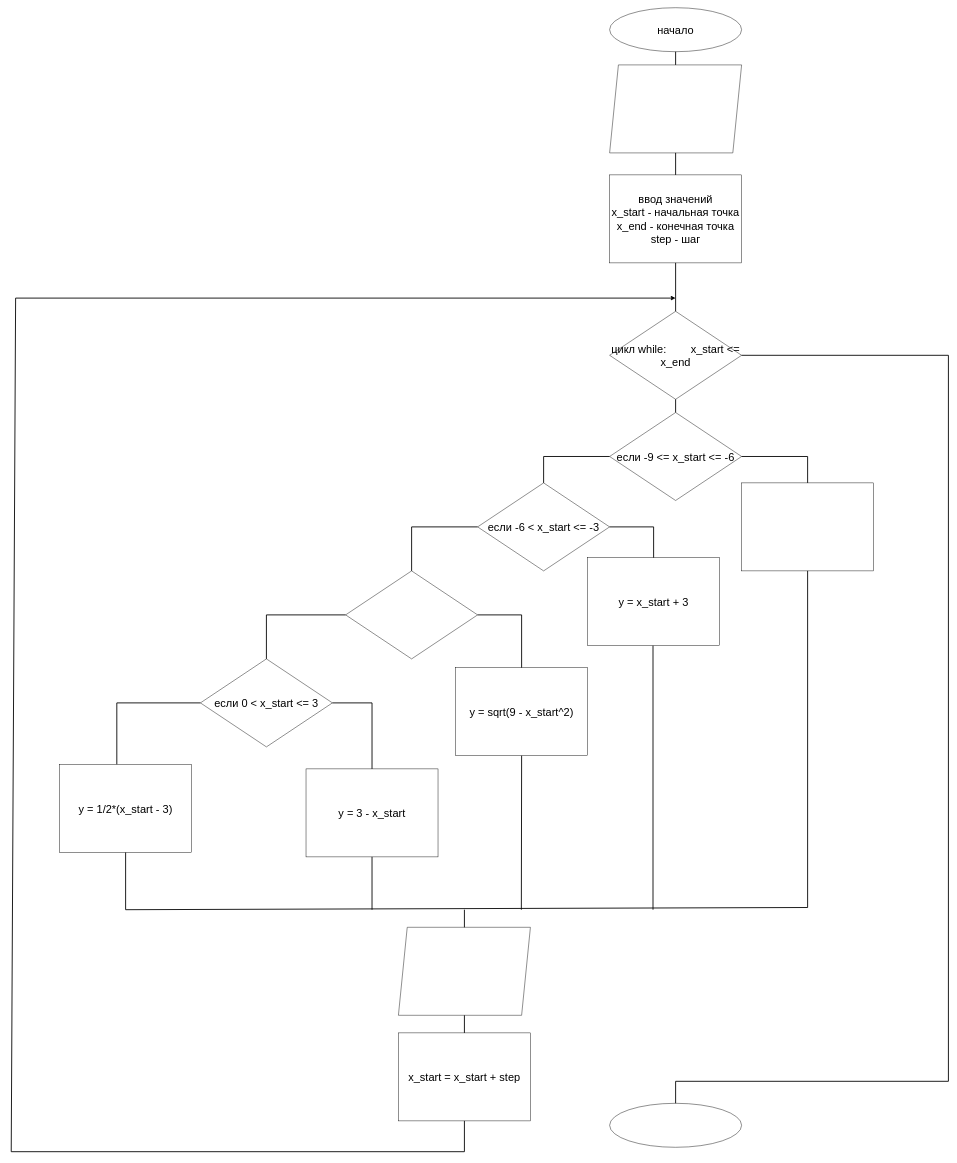
This 957x1163 diagram has some shape labels left out. Each missing label, with the centre of its shape:
y = sqrt(9 - (x_start + 6)^2): [807,526]
вывод значения x_start, y: [464,971]
вывод шапки "X | Y ": [675,108]
если -3 < x_start <= 0: [411,614]
конец: [675,1125]
